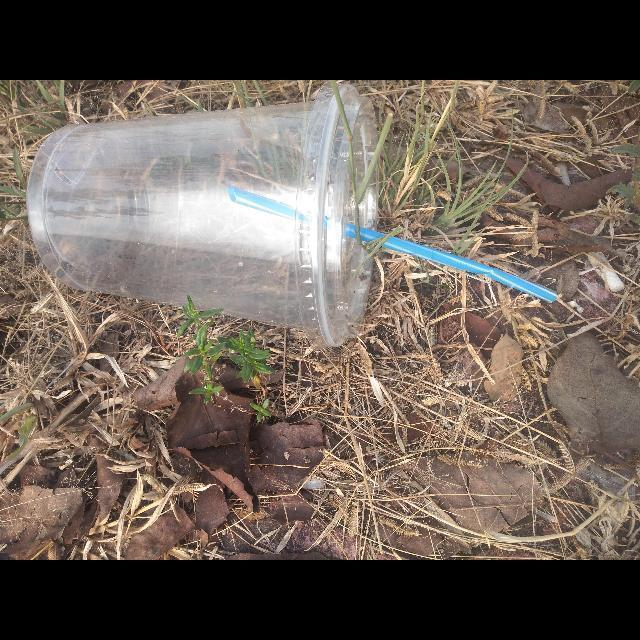Plastic: (27, 82, 380, 350), (227, 186, 557, 302), (295, 82, 379, 350)
